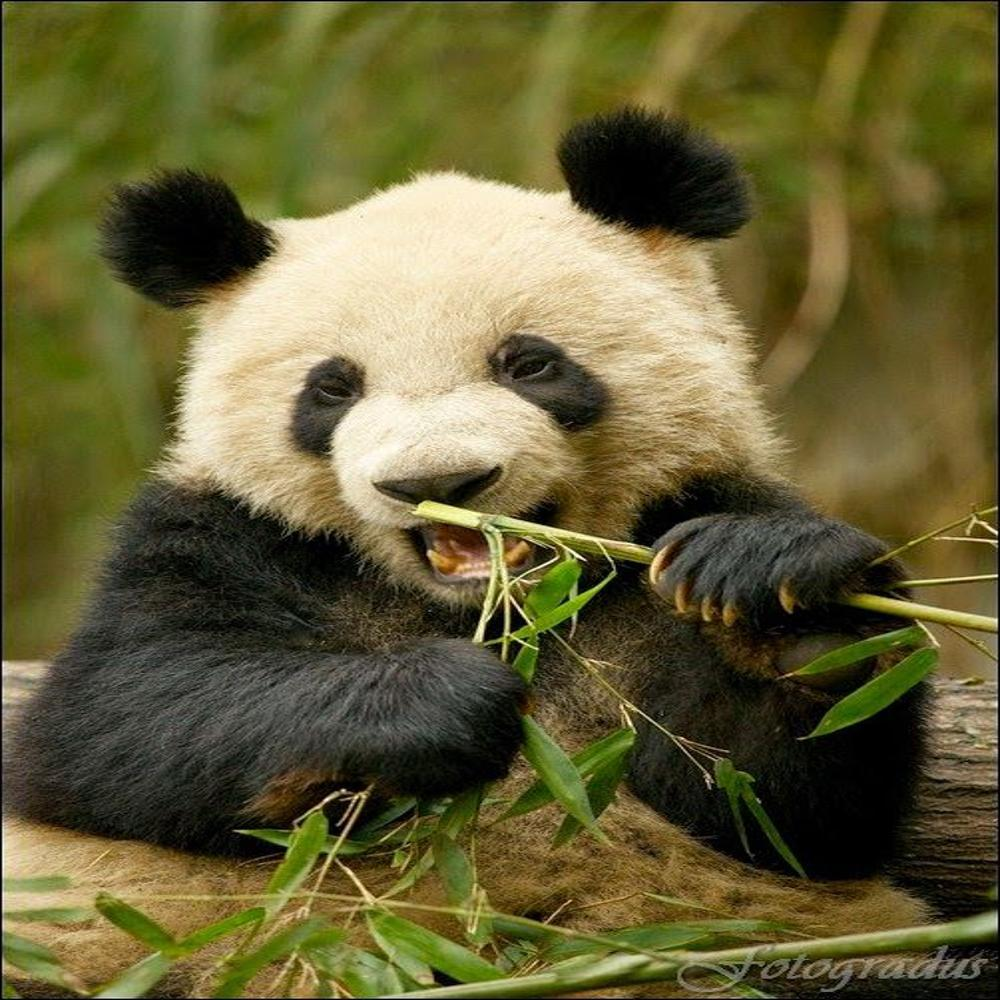panda: (0, 106, 942, 898)
